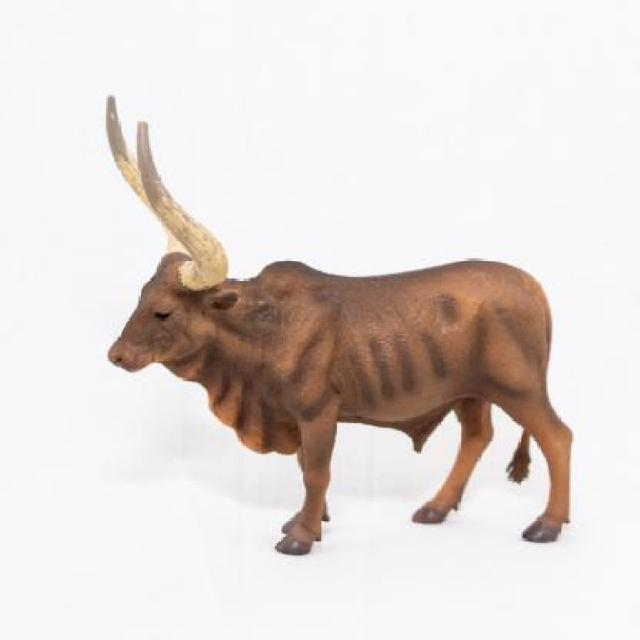Cow: (97, 88, 589, 564)
